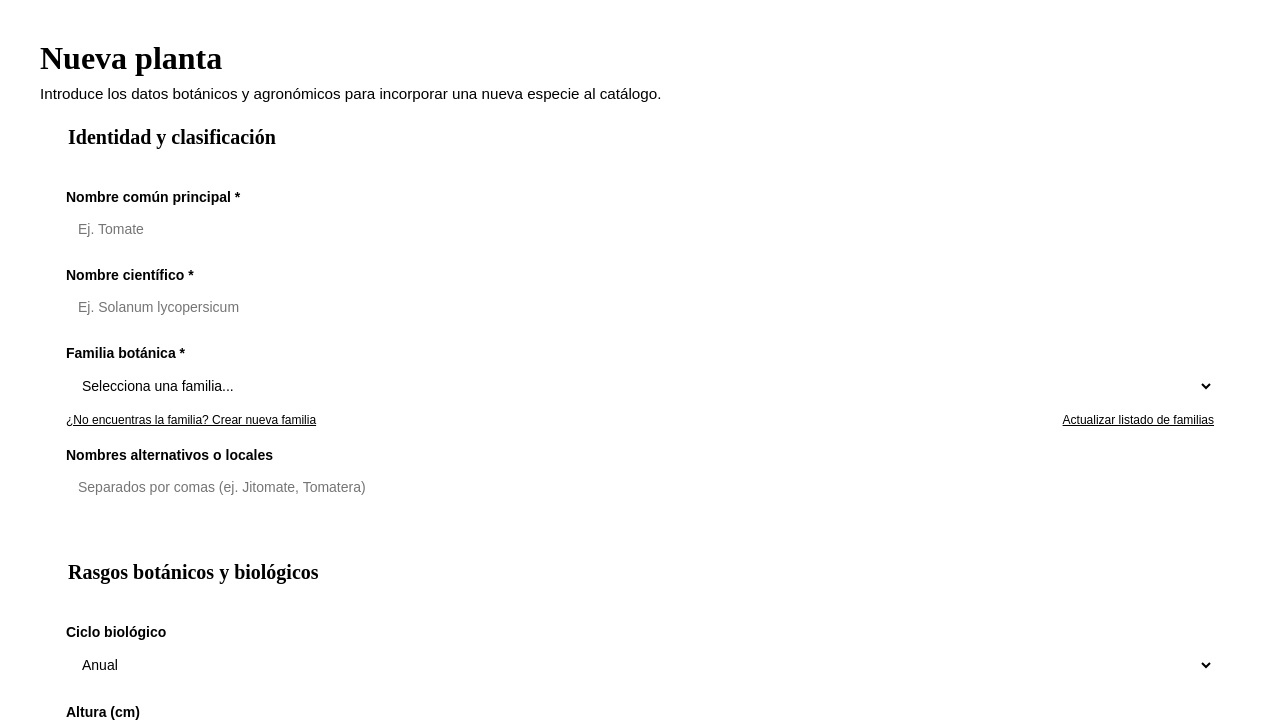
Test case: PlantCreatePage › opens cancel confirmation modal when cancelling dirty form
The image size is (1280, 720).
Type "Tomatera" into the field labelled "Nombre común principal *". click: (652, 229)
box: top-left (66, 211), bottom-right (1238, 247)
(page scrolled)
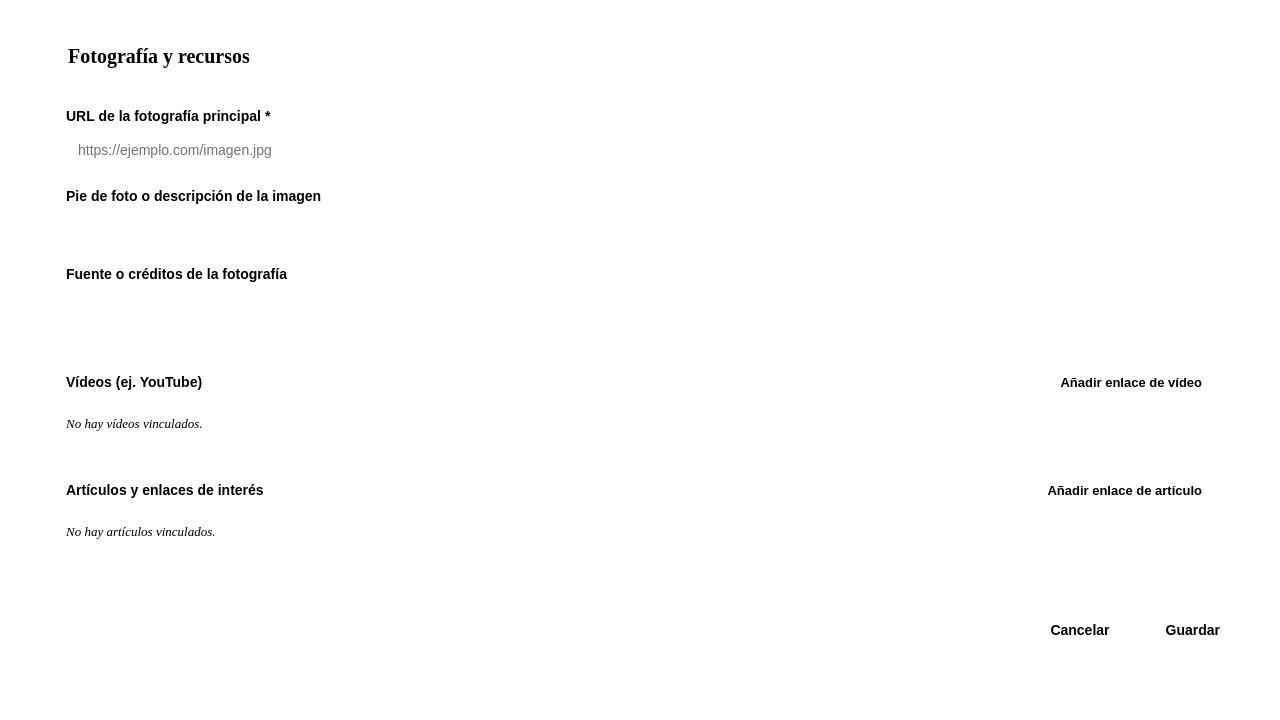
Click the button "Cancelar". click: (1080, 630)
box: top-left (1030, 612), bottom-right (1130, 648)
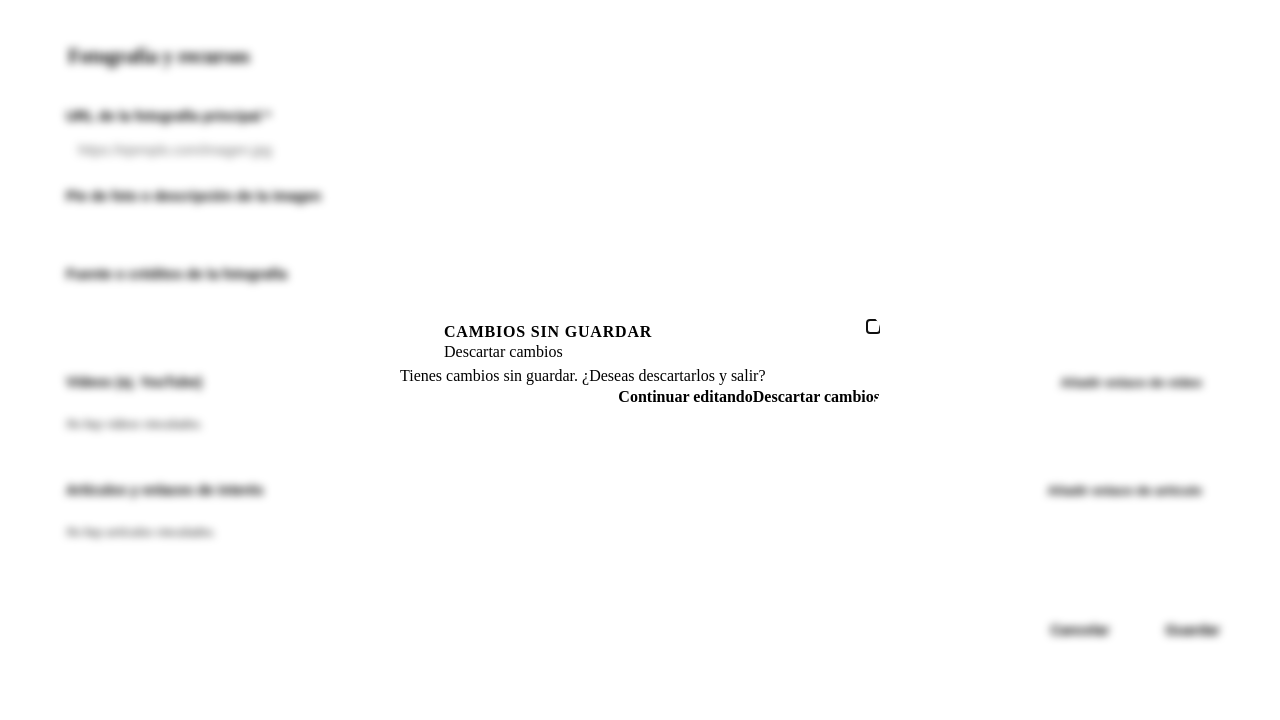
Check: the dialog is shown, box top-left (400, 314), bottom-right (880, 406)
